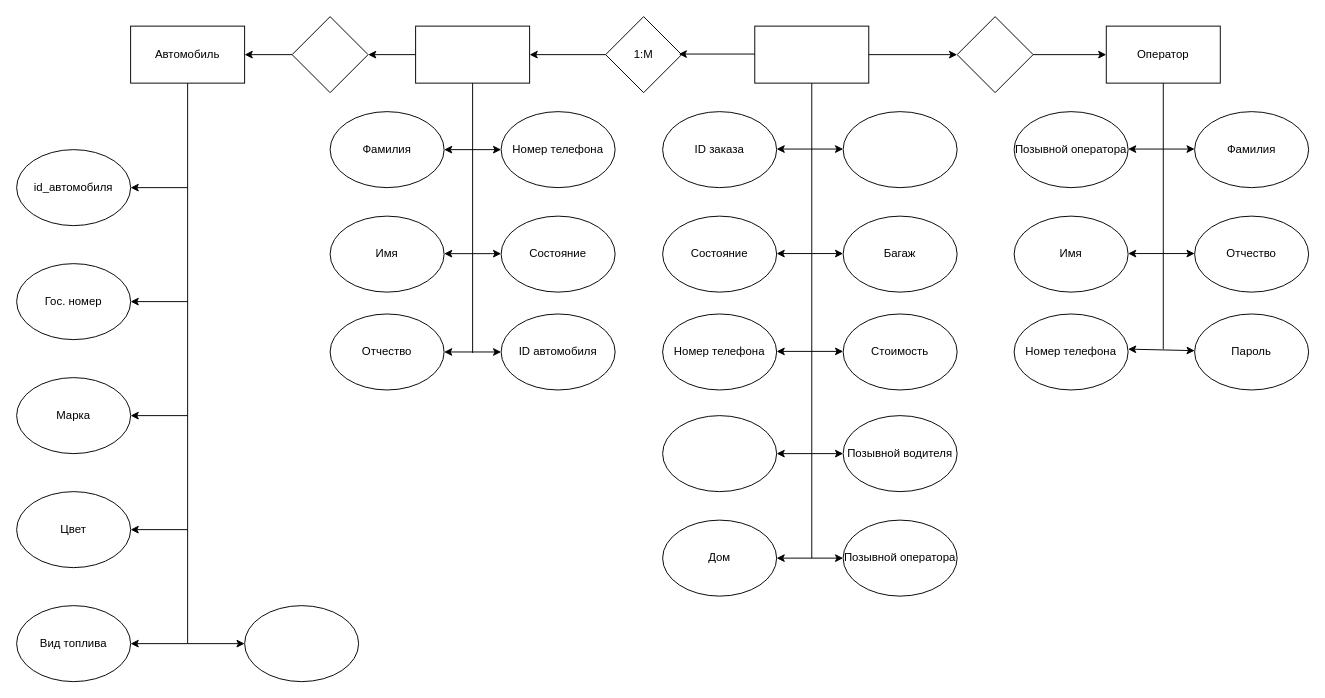
This 1325x698 diagram has some shape labels left out. Here are the shapes that lost their labels. From the top down, the centre of each, then its label:
At point (329, 54): "2:М".
At point (472, 54): "Водитель".
At point (811, 54): "Заказ".
At point (994, 54): "М:1".
At point (899, 149): "Дата и время заказа".
At point (719, 453): "Улица".
At point (301, 643): "Год выпуска".
